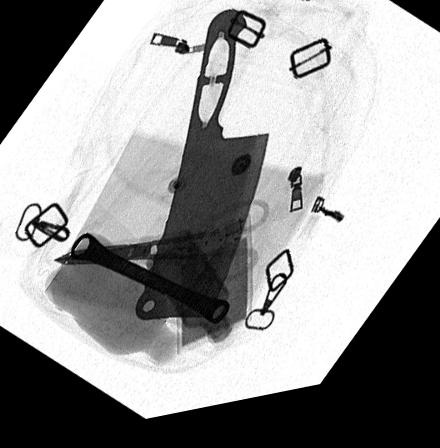Knife: (133, 17, 267, 326)
Powerbank: (172, 216, 249, 363)
Scissors: (48, 208, 267, 293)
